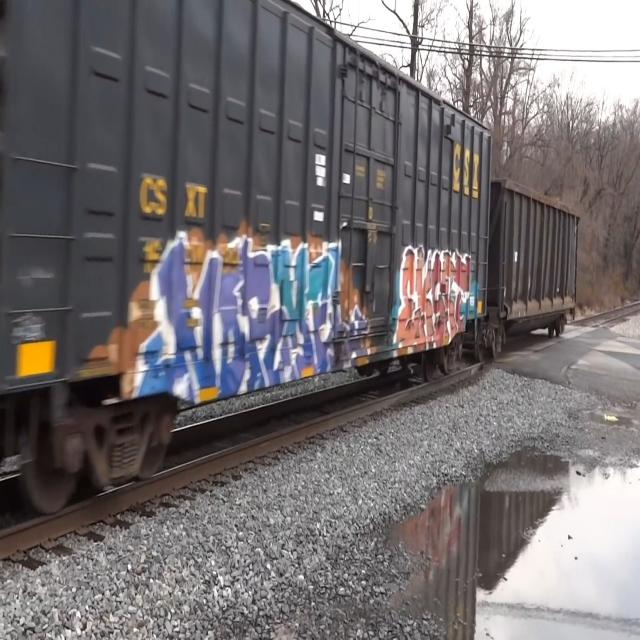boxcar: (0, 5, 496, 493)
gondola: (492, 174, 585, 364)
